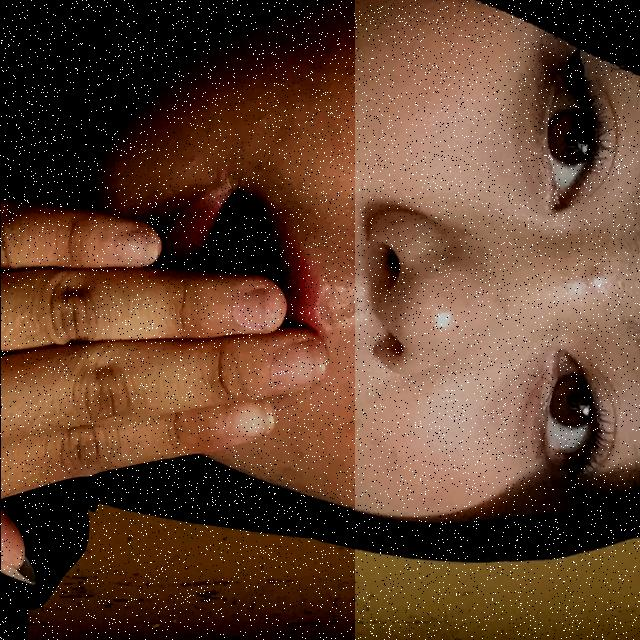ngantuk: (0, 0, 354, 640)
